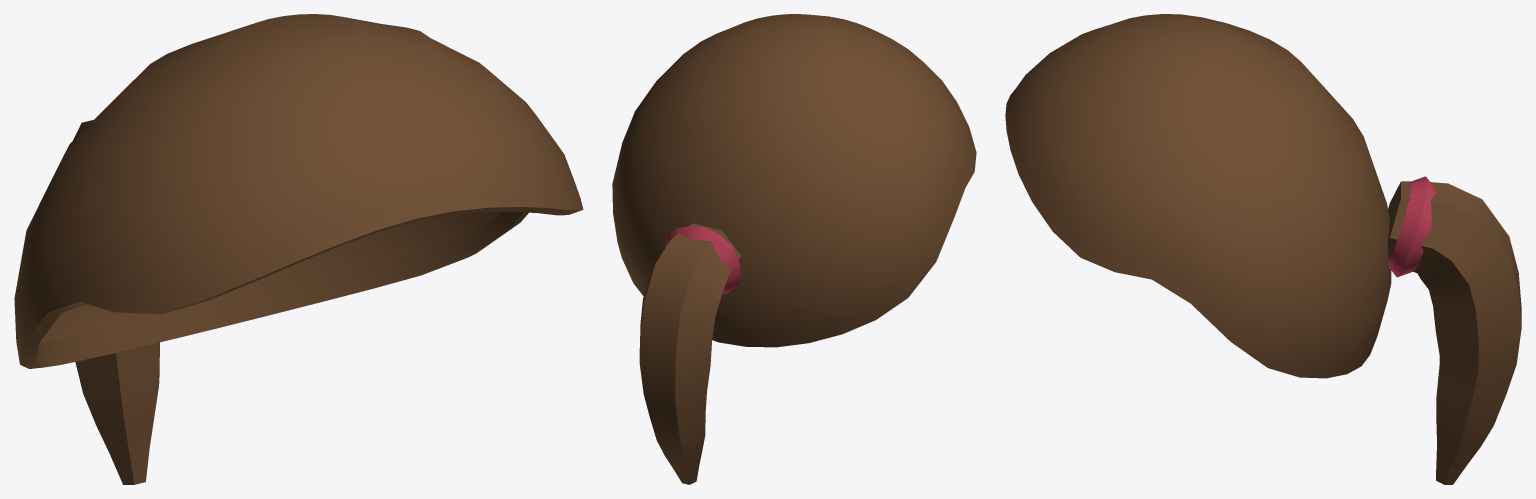
The model's file is Char_Hair_Ponytail.fbx.
The picture shows the model from 3 angles, left to right: view 1: azimuth 30°, elevation 25°; view 2: azimuth 150°, elevation 25°; view 3: azimuth 270°, elevation 25°; orthographic projection. The views are drawn at different scales.
Parts seen in each view (by area): view 1: Hair; view 2: Hair, Tie; view 3: Hair, Tie.
Boxes of the visible parts, bbox=[...] form: Hair: bbox=[14, 14, 583, 484]; Hair: bbox=[612, 14, 976, 484]; Tie: bbox=[665, 226, 740, 293]; Hair: bbox=[1005, 14, 1521, 484]; Tie: bbox=[1388, 176, 1436, 277].
Size of the model in its own units: 131 by 144 by 151.
